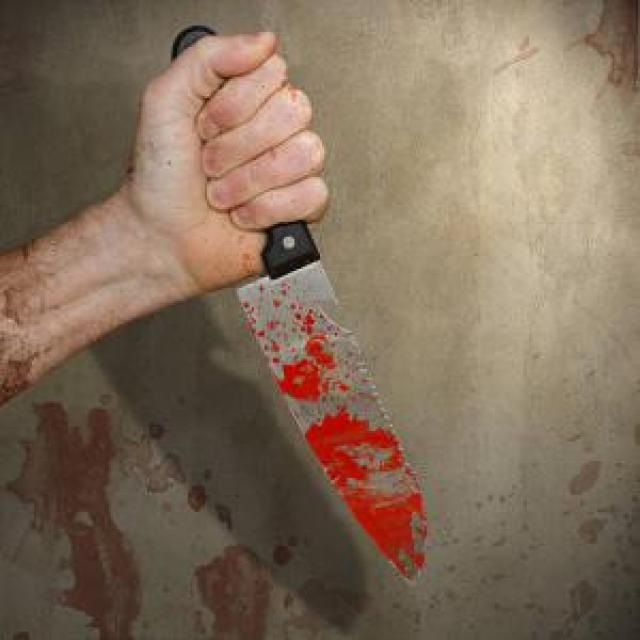knife: (166, 23, 432, 591)
